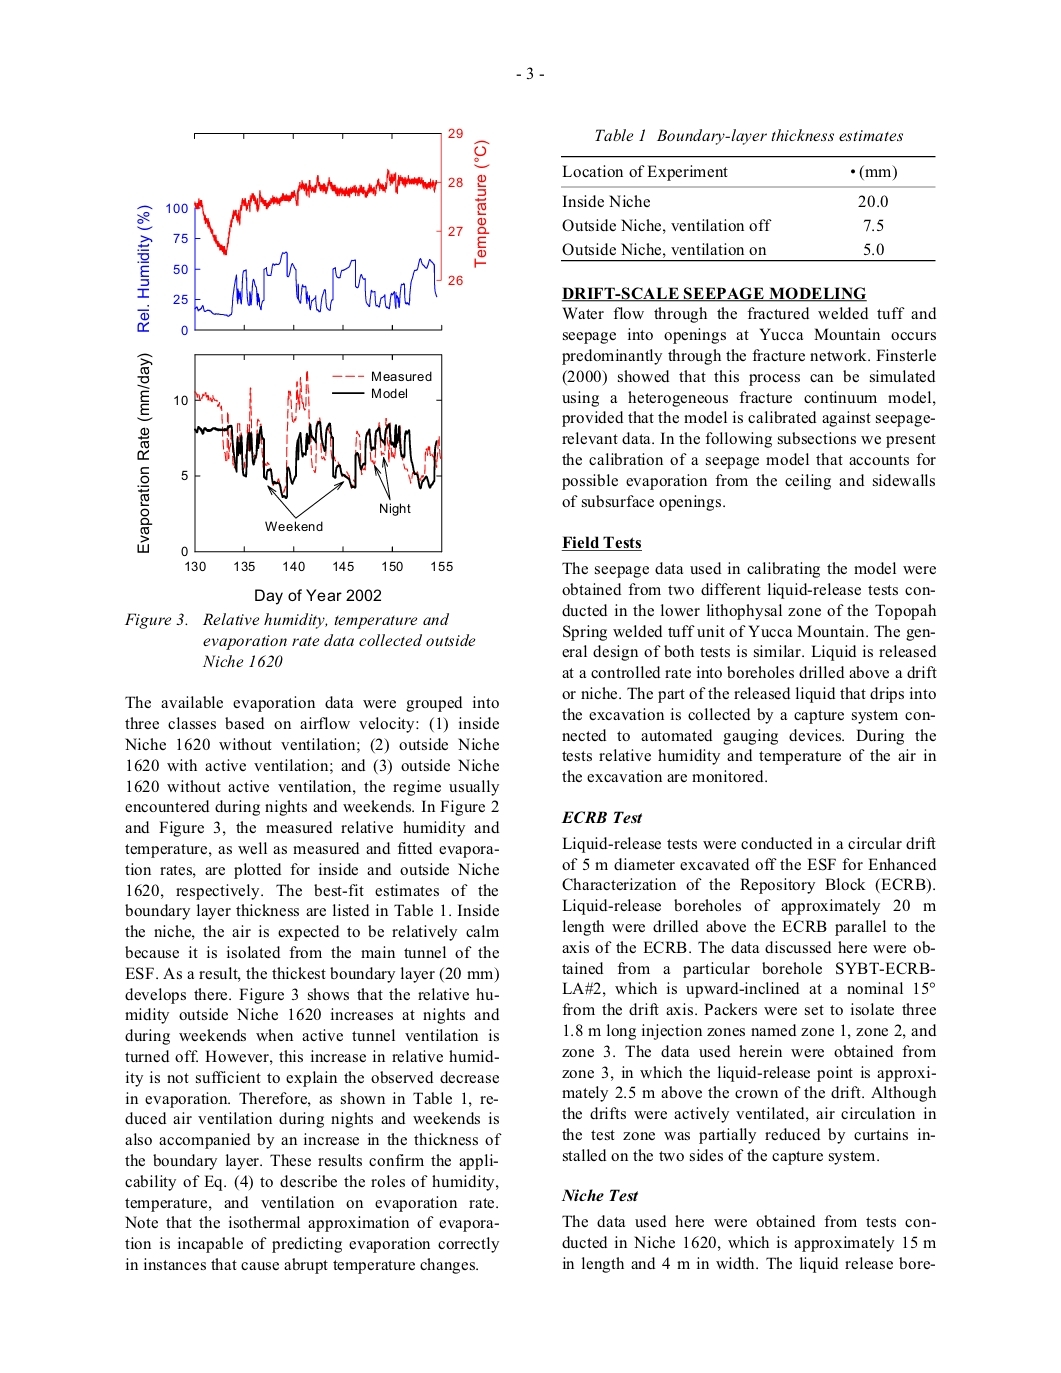Table: (561, 156, 935, 261)
figure: (137, 127, 489, 335), (137, 353, 452, 571)
